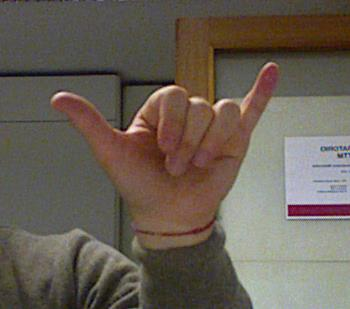clockwise: (42, 59, 280, 222)
